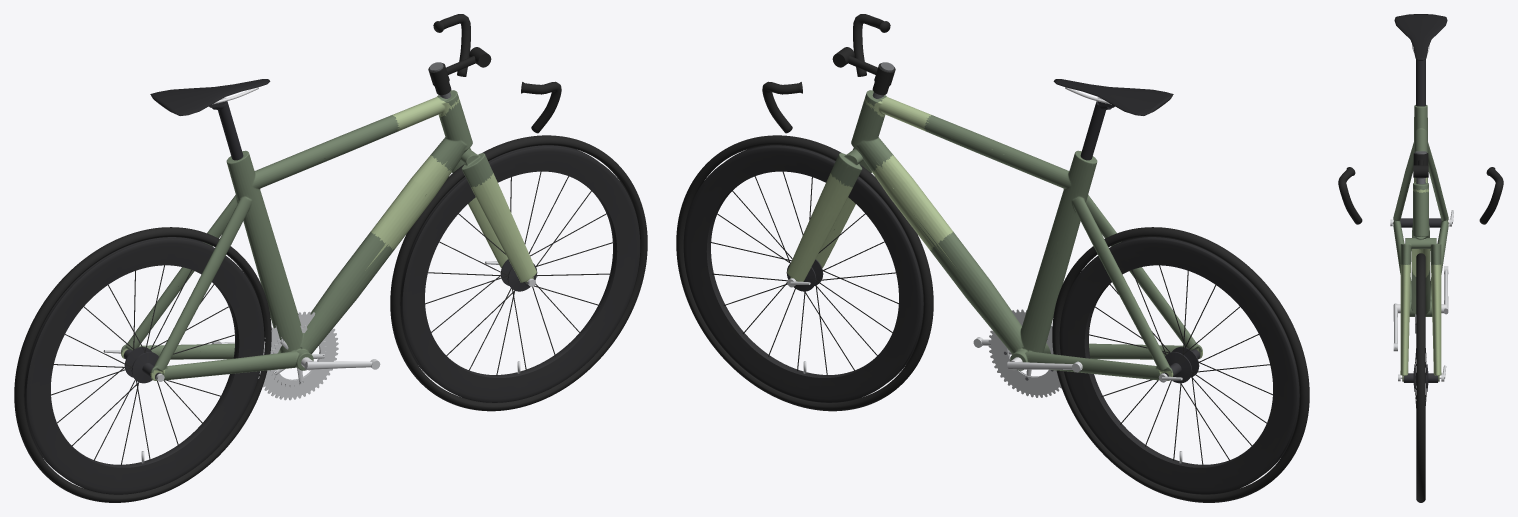
File: bike_web.glb
3 renders of one model, left to right at view 1: azimuth 30°, elevation 25°; view 2: azimuth 150°, elevation 25°; view 3: azimuth 270°, elevation 25°, orthographic. The views are drawn at different scales.
Parts seen in each view (by area): view 1: frame, rim_rear, rim_front, tyre_rear, tyre_front, fork, spokes_front, chainrings, spokes_rear, saddle, dropbar, stem (+3 smaller); view 2: frame, rim_rear, rim_front, tyre_rear, tyre_front, fork, spokes_front, spokes_rear, saddle, chainrings, dropbar, stem (+3 smaller); view 3: frame, fork, tyre_front, saddle, dropbar, crank_arms, stem, seatpost, hub_front, hub_rear.
Part boxes in pixels (x1=…): frame: x1=121, y1=90, x2=472, y2=380; rim_rear: x1=24, y1=237, x2=264, y2=494; rim_front: x1=400, y1=145, x2=640, y2=402; tyre_rear: x1=14, y1=227, x2=271, y2=502; tyre_front: x1=390, y1=135, x2=647, y2=411; fork: x1=452, y1=147, x2=536, y2=283; spokes_front: x1=425, y1=171, x2=614, y2=375; chainrings: x1=258, y1=311, x2=338, y2=400; spokes_rear: x1=51, y1=265, x2=236, y2=465; saddle: x1=150, y1=79, x2=270, y2=115; dropbar: x1=433, y1=14, x2=561, y2=133; stem: x1=428, y1=47, x2=491, y2=98; frame: x1=851, y1=90, x2=1202, y2=380; rim_rear: x1=1059, y1=237, x2=1299, y2=494; rim_front: x1=683, y1=145, x2=923, y2=402; tyre_rear: x1=1052, y1=227, x2=1309, y2=502; tyre_front: x1=676, y1=135, x2=933, y2=411; fork: x1=787, y1=147, x2=871, y2=281; spokes_front: x1=710, y1=171, x2=898, y2=375; spokes_rear: x1=1087, y1=265, x2=1272, y2=465; saddle: x1=1053, y1=79, x2=1173, y2=115; chainrings: x1=988, y1=309, x2=1061, y2=397; dropbar: x1=762, y1=14, x2=890, y2=133; stem: x1=832, y1=47, x2=895, y2=98; frame: x1=1393, y1=105, x2=1448, y2=316; fork: x1=1400, y1=238, x2=1441, y2=381; tyre_front: x1=1416, y1=253, x2=1425, y2=502; saddle: x1=1394, y1=14, x2=1447, y2=60; dropbar: x1=1338, y1=167, x2=1503, y2=224; crank_arms: x1=1393, y1=266, x2=1448, y2=351; stem: x1=1413, y1=151, x2=1428, y2=184; seatpost: x1=1416, y1=59, x2=1425, y2=106; hub_front: x1=1402, y1=364, x2=1439, y2=391; hub_rear: x1=1400, y1=218, x2=1441, y2=227.
Size of the model in its own units: 1.66 by 0.9827 by 0.4466.
